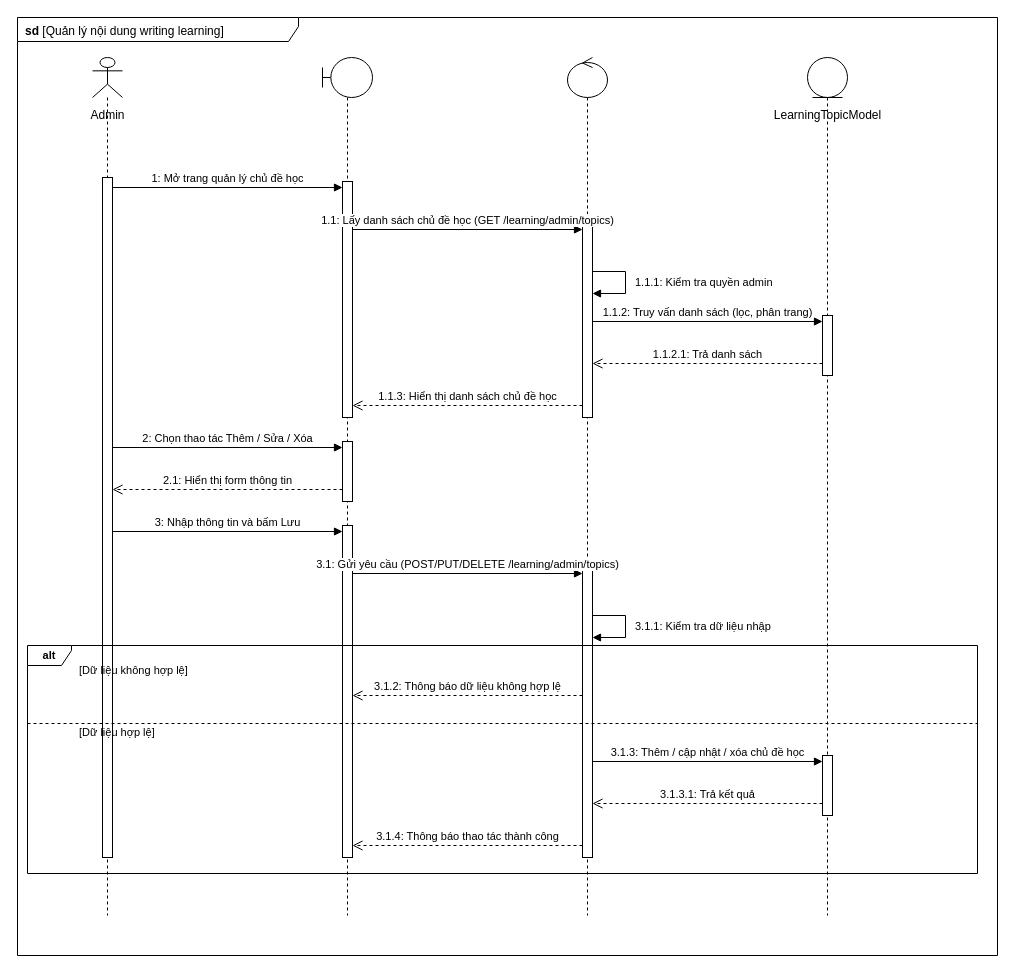
The diagram is 1015 pixels wide and 973 high, and some of its shapes have lost their labels. The shapes that lost their labels are listed below. From the top down, each one's box as (x1, y1, x2, y2) in pixels, then its label:
(322, 56, 372, 916): UI Quản lý nội dung học
(566, 56, 608, 916): LearningController
